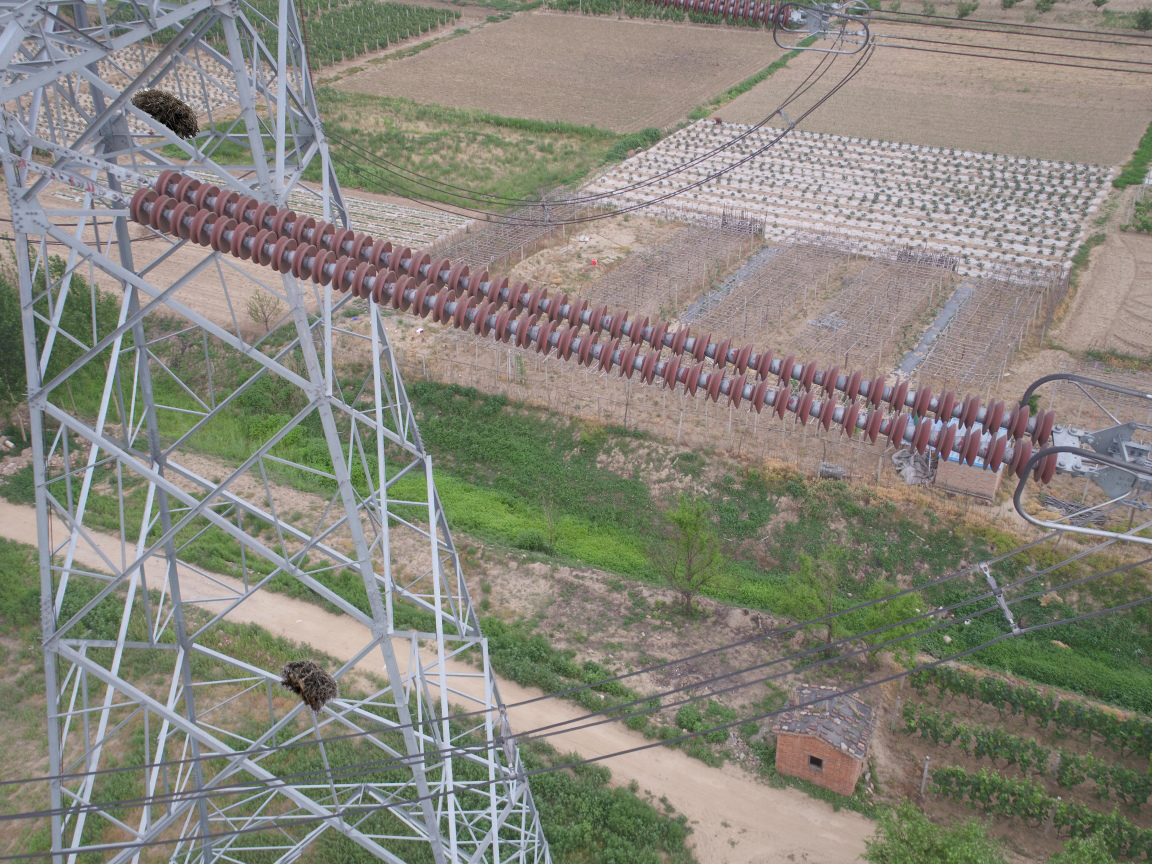nest: (128, 87, 201, 144), (277, 657, 338, 714)
